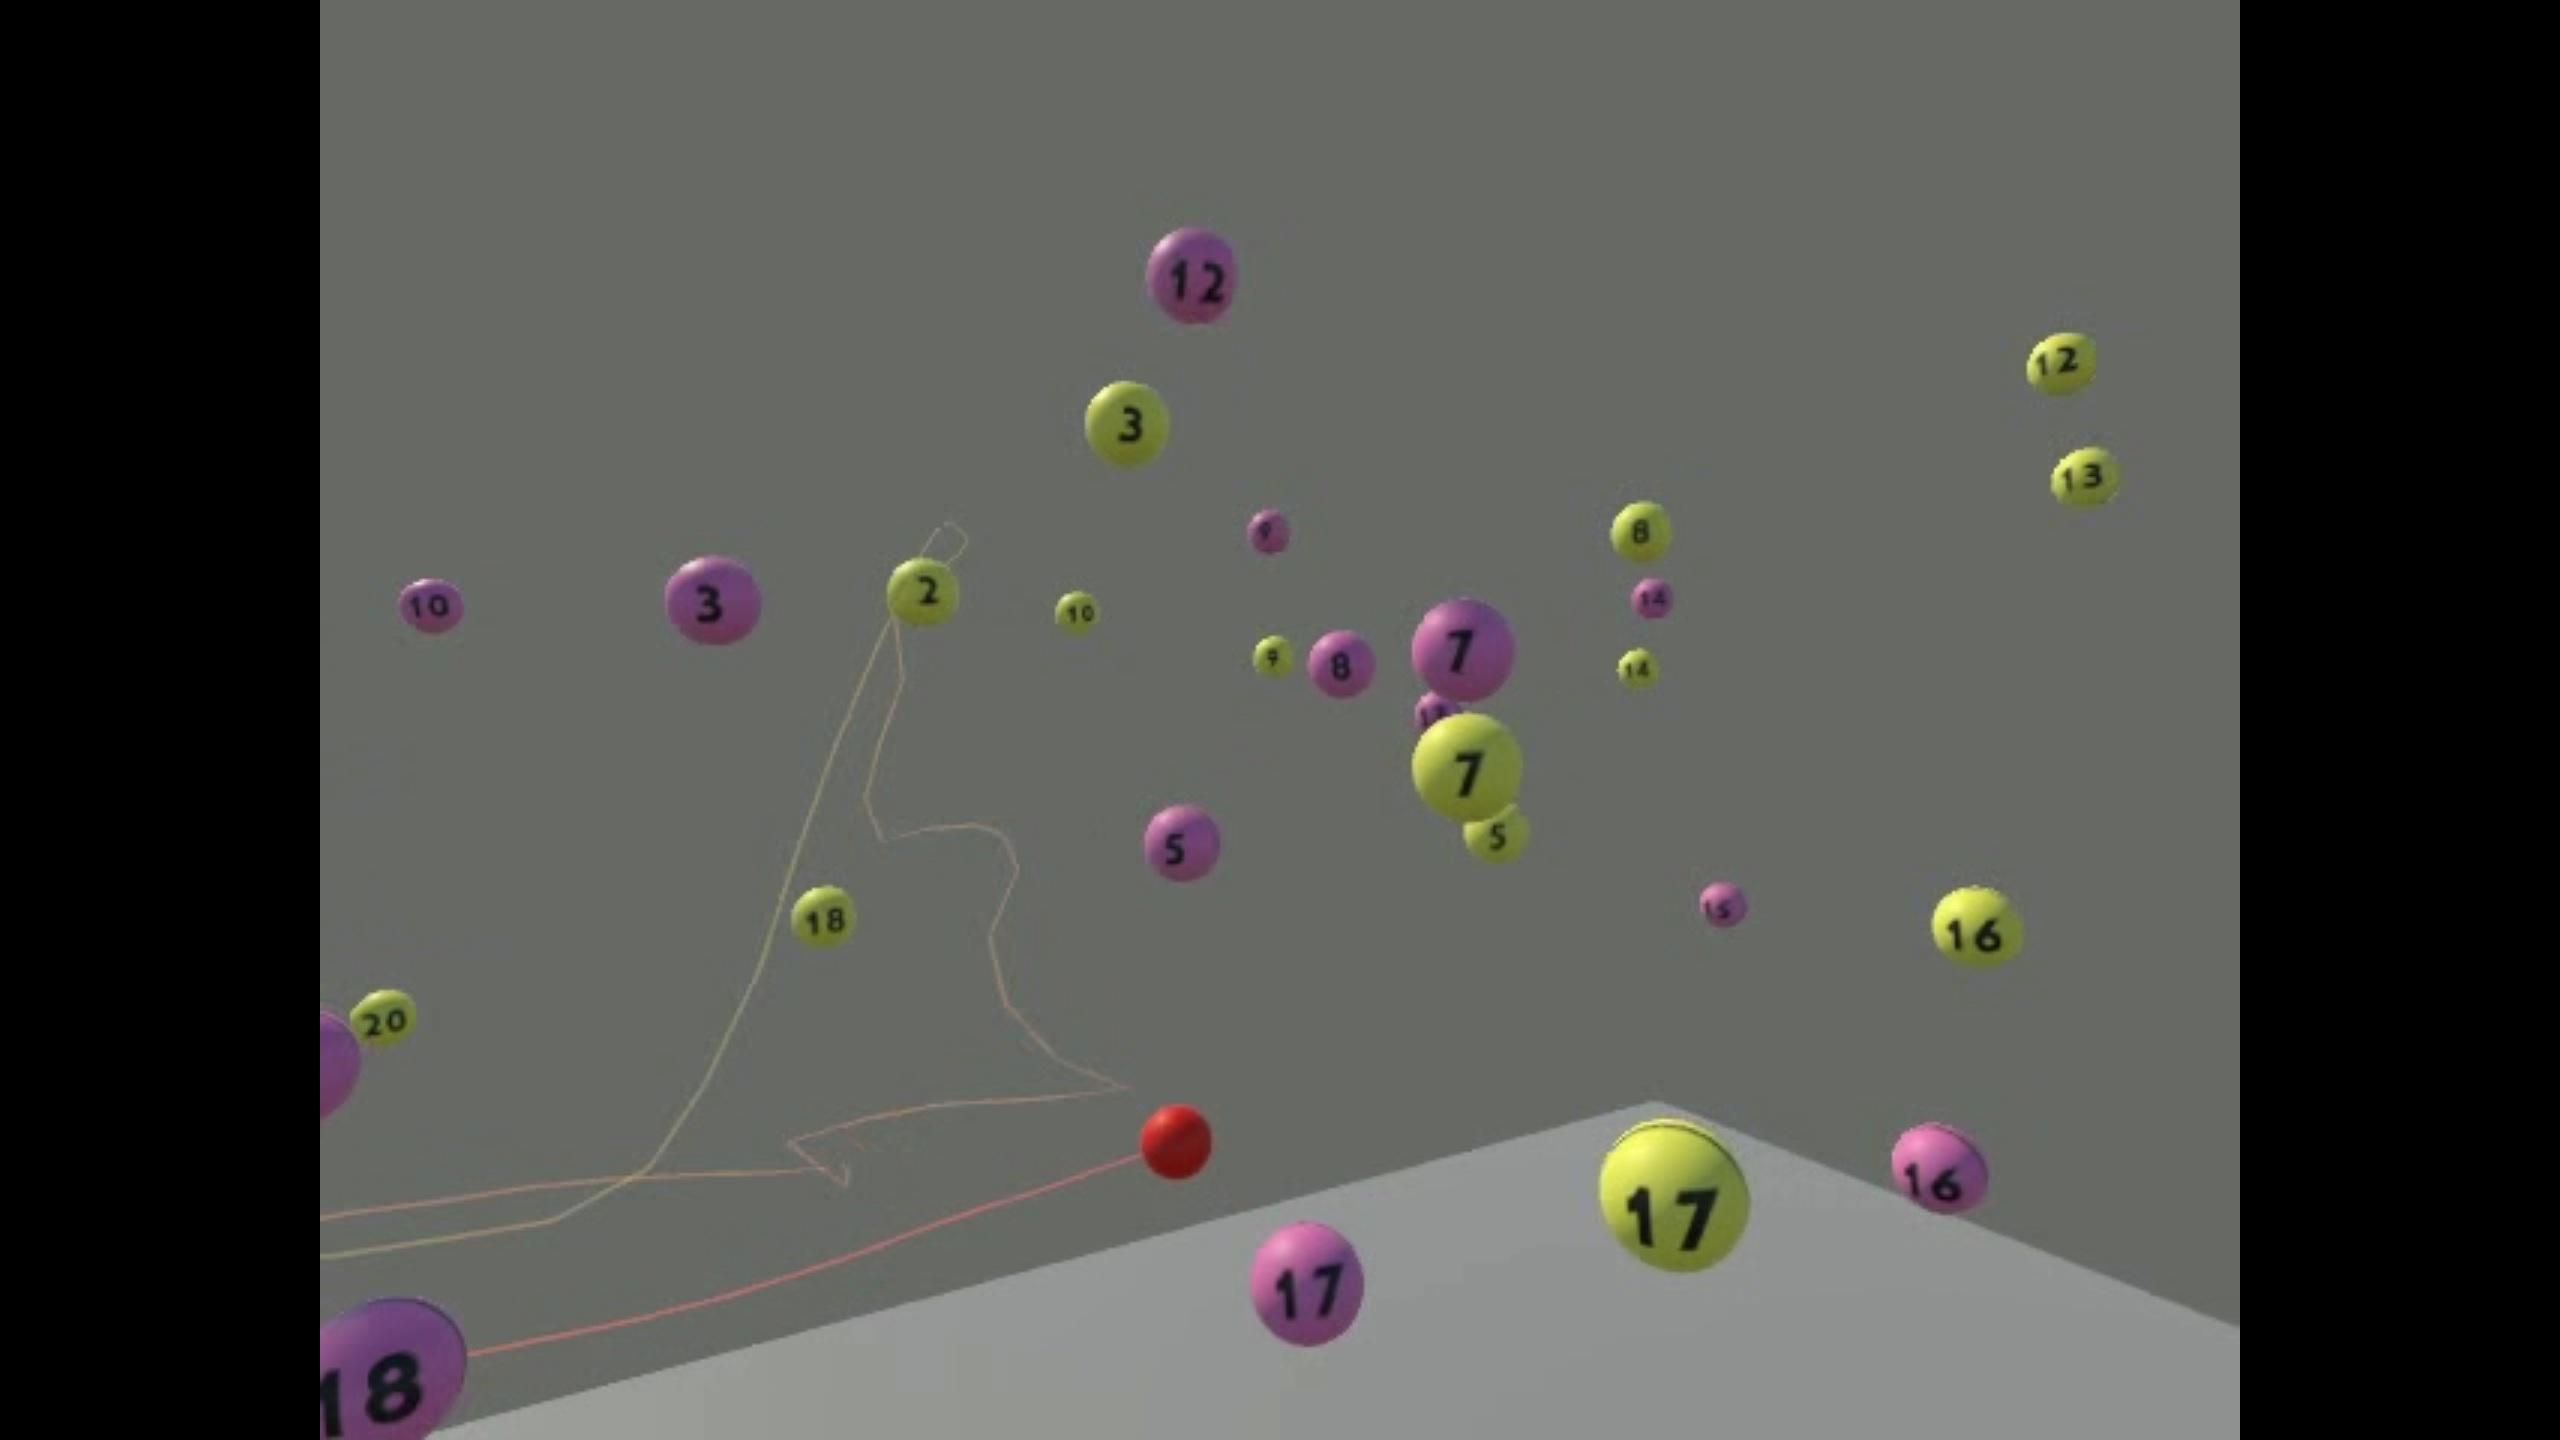ball_02_yellow: (888, 559, 958, 622)
ball_03_pink: (666, 557, 761, 645)
ball_03_yellow: (1087, 378, 1171, 468)
ball_05_pink: (1145, 805, 1220, 881)
ball_07_pink: (1414, 598, 1516, 700)
ball_08_pink: (1308, 631, 1375, 698)
ball_08_yellow: (1612, 501, 1674, 557)
ball_09_pink: (1247, 506, 1291, 554)
ball_09_yellow: (1254, 636, 1289, 673)
ball_10_pink: (401, 577, 461, 633)
ball_10_yellow: (1055, 591, 1101, 633)
ball_12_pink: (1145, 229, 1238, 325)
ball_12_yellow: (2029, 331, 2098, 397)
ball_13_yellow: (2052, 445, 2119, 506)
ball_14_pink: (1632, 578, 1674, 617)
ball_14_yellow: (1616, 647, 1655, 689)
ball_15_pink: (1698, 883, 1748, 930)
ball_16_pink: (1894, 1124, 1990, 1213)
ball_16_yellow: (1932, 886, 2022, 965)
ball_17_pink: (1252, 1222, 1363, 1343)
ball_17_yellow: (1600, 1120, 1749, 1273)
ball_18_yellow: (789, 886, 858, 948)
ball_20_yellow: (350, 990, 417, 1050)
ball_unknown: (320, 1299, 464, 1440), (1414, 714, 1523, 821), (320, 1013, 359, 1115), (1459, 818, 1531, 856), (1414, 695, 1454, 723)
user_cursor: (1141, 1106, 1211, 1183)
